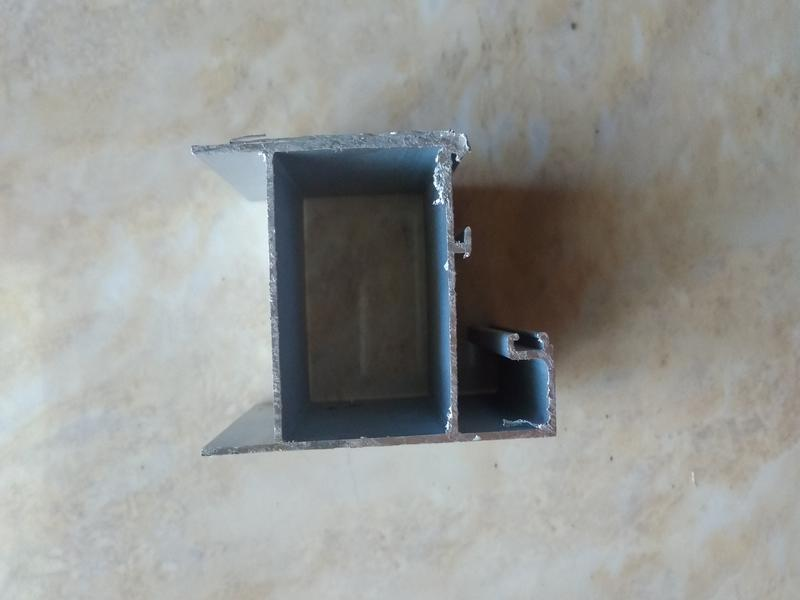Aluminium_2: (160, 109, 597, 465)
